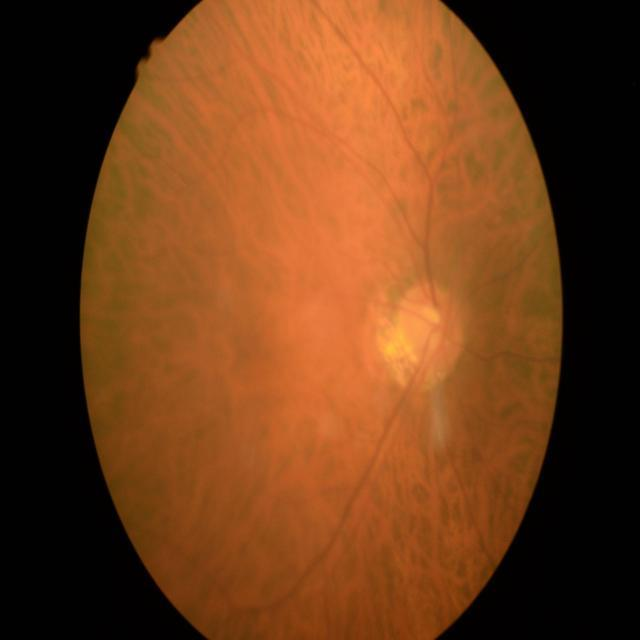cup: (409, 303, 446, 362)
disk: (396, 282, 464, 386)
